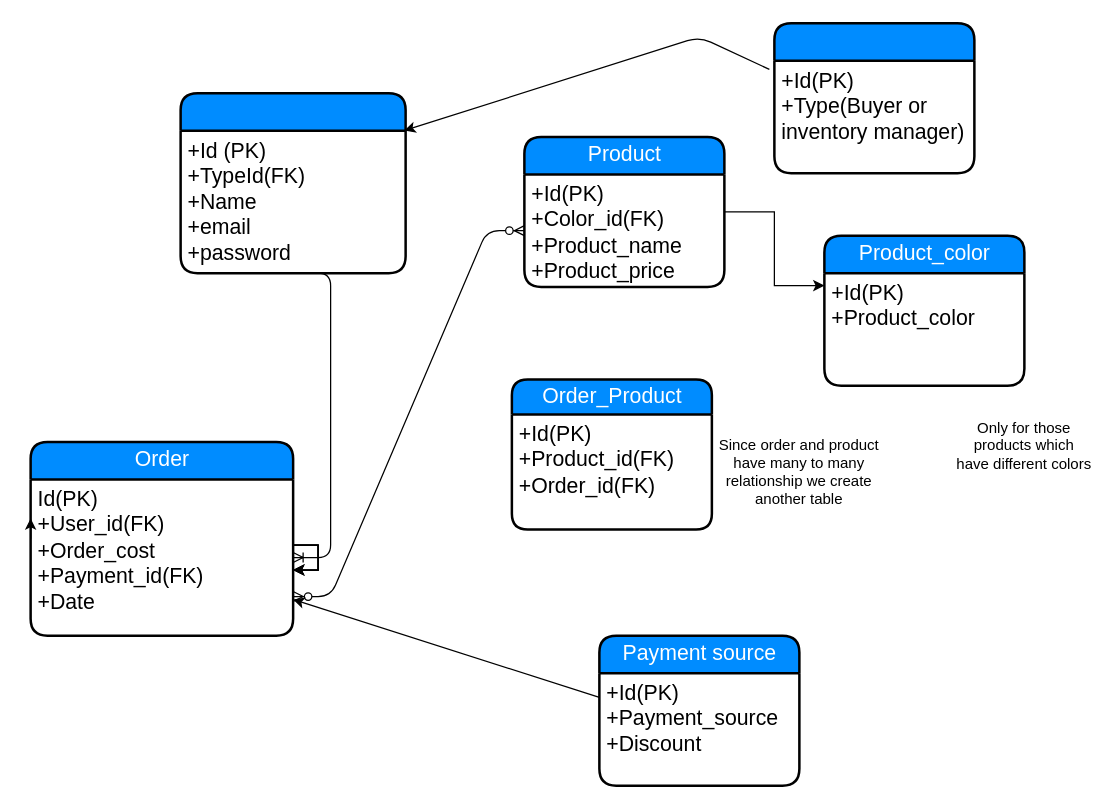
This 1115x808 diagram has some shape labels left out. Each missing label, with the box of its shape:
Type_of_user: (772, 21, 975, 174)
User: (179, 91, 406, 274)
